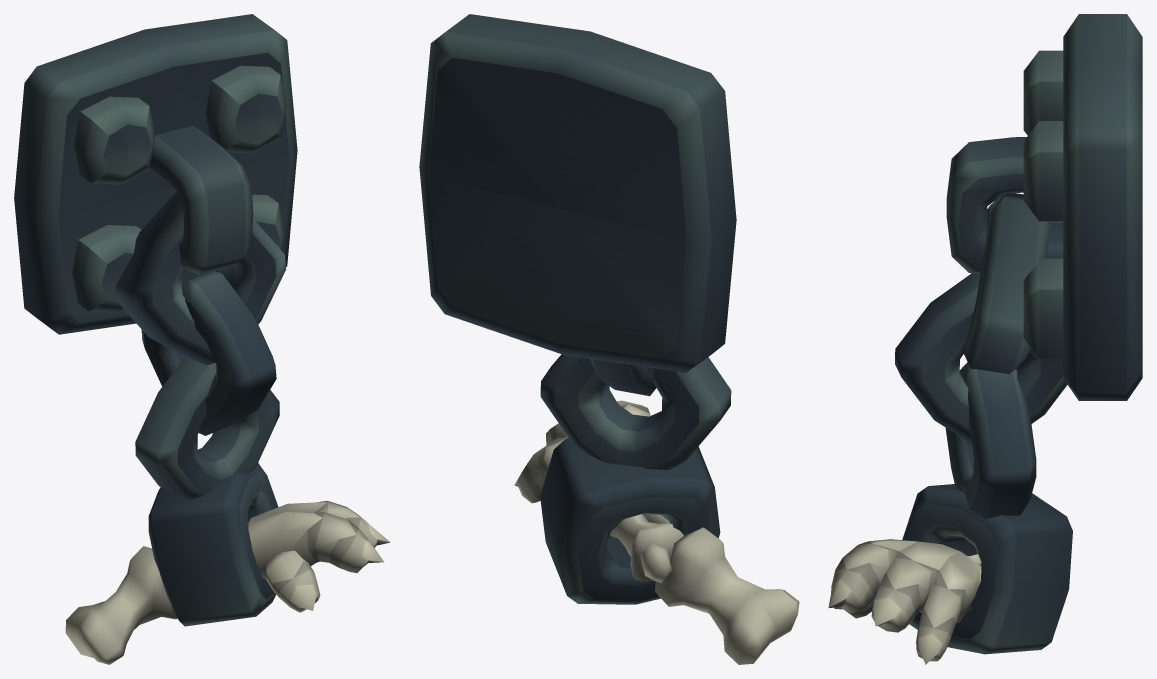
Rendered from wall_shackles_3.fbx.
3 renders of one model, left to right at view 1: azimuth 30°, elevation 25°; view 2: azimuth 150°, elevation 25°; view 3: azimuth 270°, elevation 25°, orthographic. The views are drawn at different scales.
Visible parts, largest first — view 1: wall_shackles_3; view 2: wall_shackles_3; view 3: wall_shackles_3.
Part boxes in pixels (bbox=[...]): wall_shackles_3: bbox=[14, 14, 390, 664]; wall_shackles_3: bbox=[419, 14, 799, 664]; wall_shackles_3: bbox=[828, 14, 1142, 664].
Size of the model in its own units: 91.68 by 180 by 84.04.
